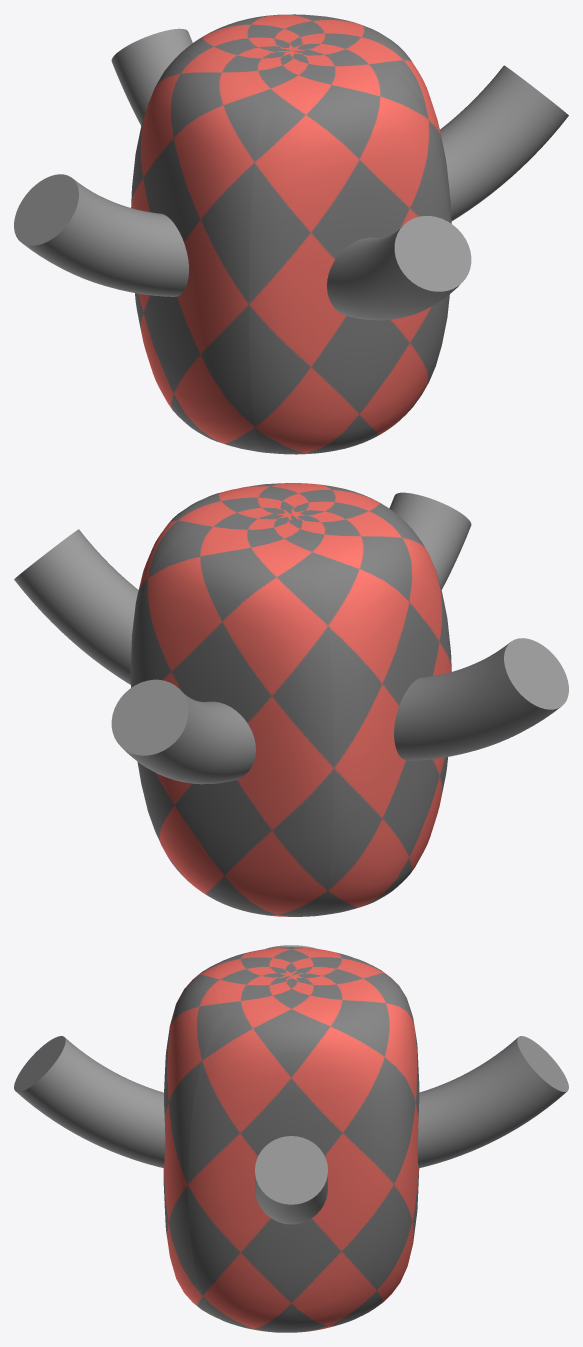
The model's file is Body(Oblong)+Colour(More_Red)+Pattern(Diamond)+Arm_Angle(Bent_Up).fbx.
3 renders of one model, top to bottom at view 1: azimuth 30°, elevation 25°; view 2: azimuth 150°, elevation 25°; view 3: azimuth 270°, elevation 25°, orthographic. The views are drawn at different scales.
Parts seen in each view (by area): view 1: Body(Oblong)+Colour(More_Red)+Pattern(Diamond)+Arm_Angle(Ben (×5); view 2: Body(Oblong)+Colour(More_Red)+Pattern(Diamond)+Arm_Angle(Ben (×5); view 3: Body(Oblong)+Colour(More_Red)+Pattern(Diamond)+Arm_Angle(Ben (×4).
Boxes of the visible parts, <box> form: Body(Oblong)+Colour(More_Red)+Pattern(Diamond)+Arm_Angle(Ben (×5): <box>14,14,568,454</box>; Body(Oblong)+Colour(More_Red)+Pattern(Diamond)+Arm_Angle(Ben (×5): <box>14,483,568,916</box>; Body(Oblong)+Colour(More_Red)+Pattern(Diamond)+Arm_Angle(Ben (×4): <box>14,947,568,1332</box>.
Bounding box in the file's own units: 60.67 × 40 × 60.67.
Materials: 2 (1 with a texture image).
